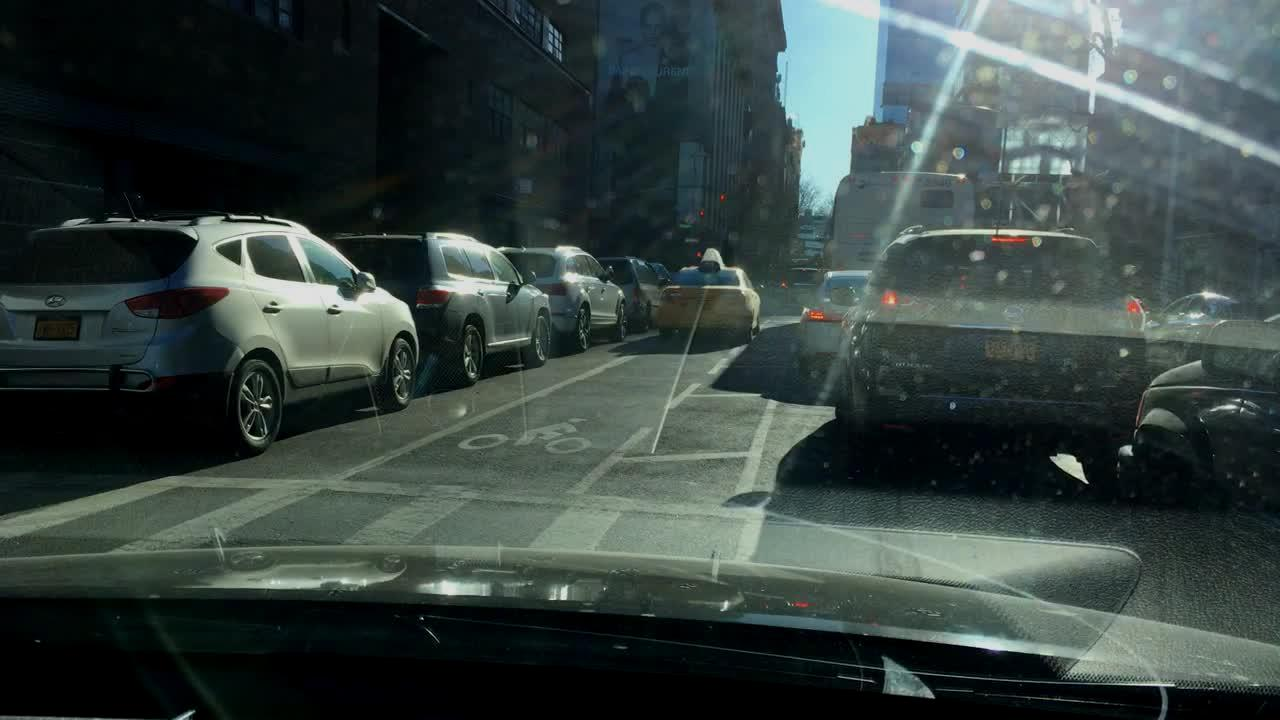Hyundai: (37, 287, 80, 315)
Nissan: (995, 299, 1039, 332)
